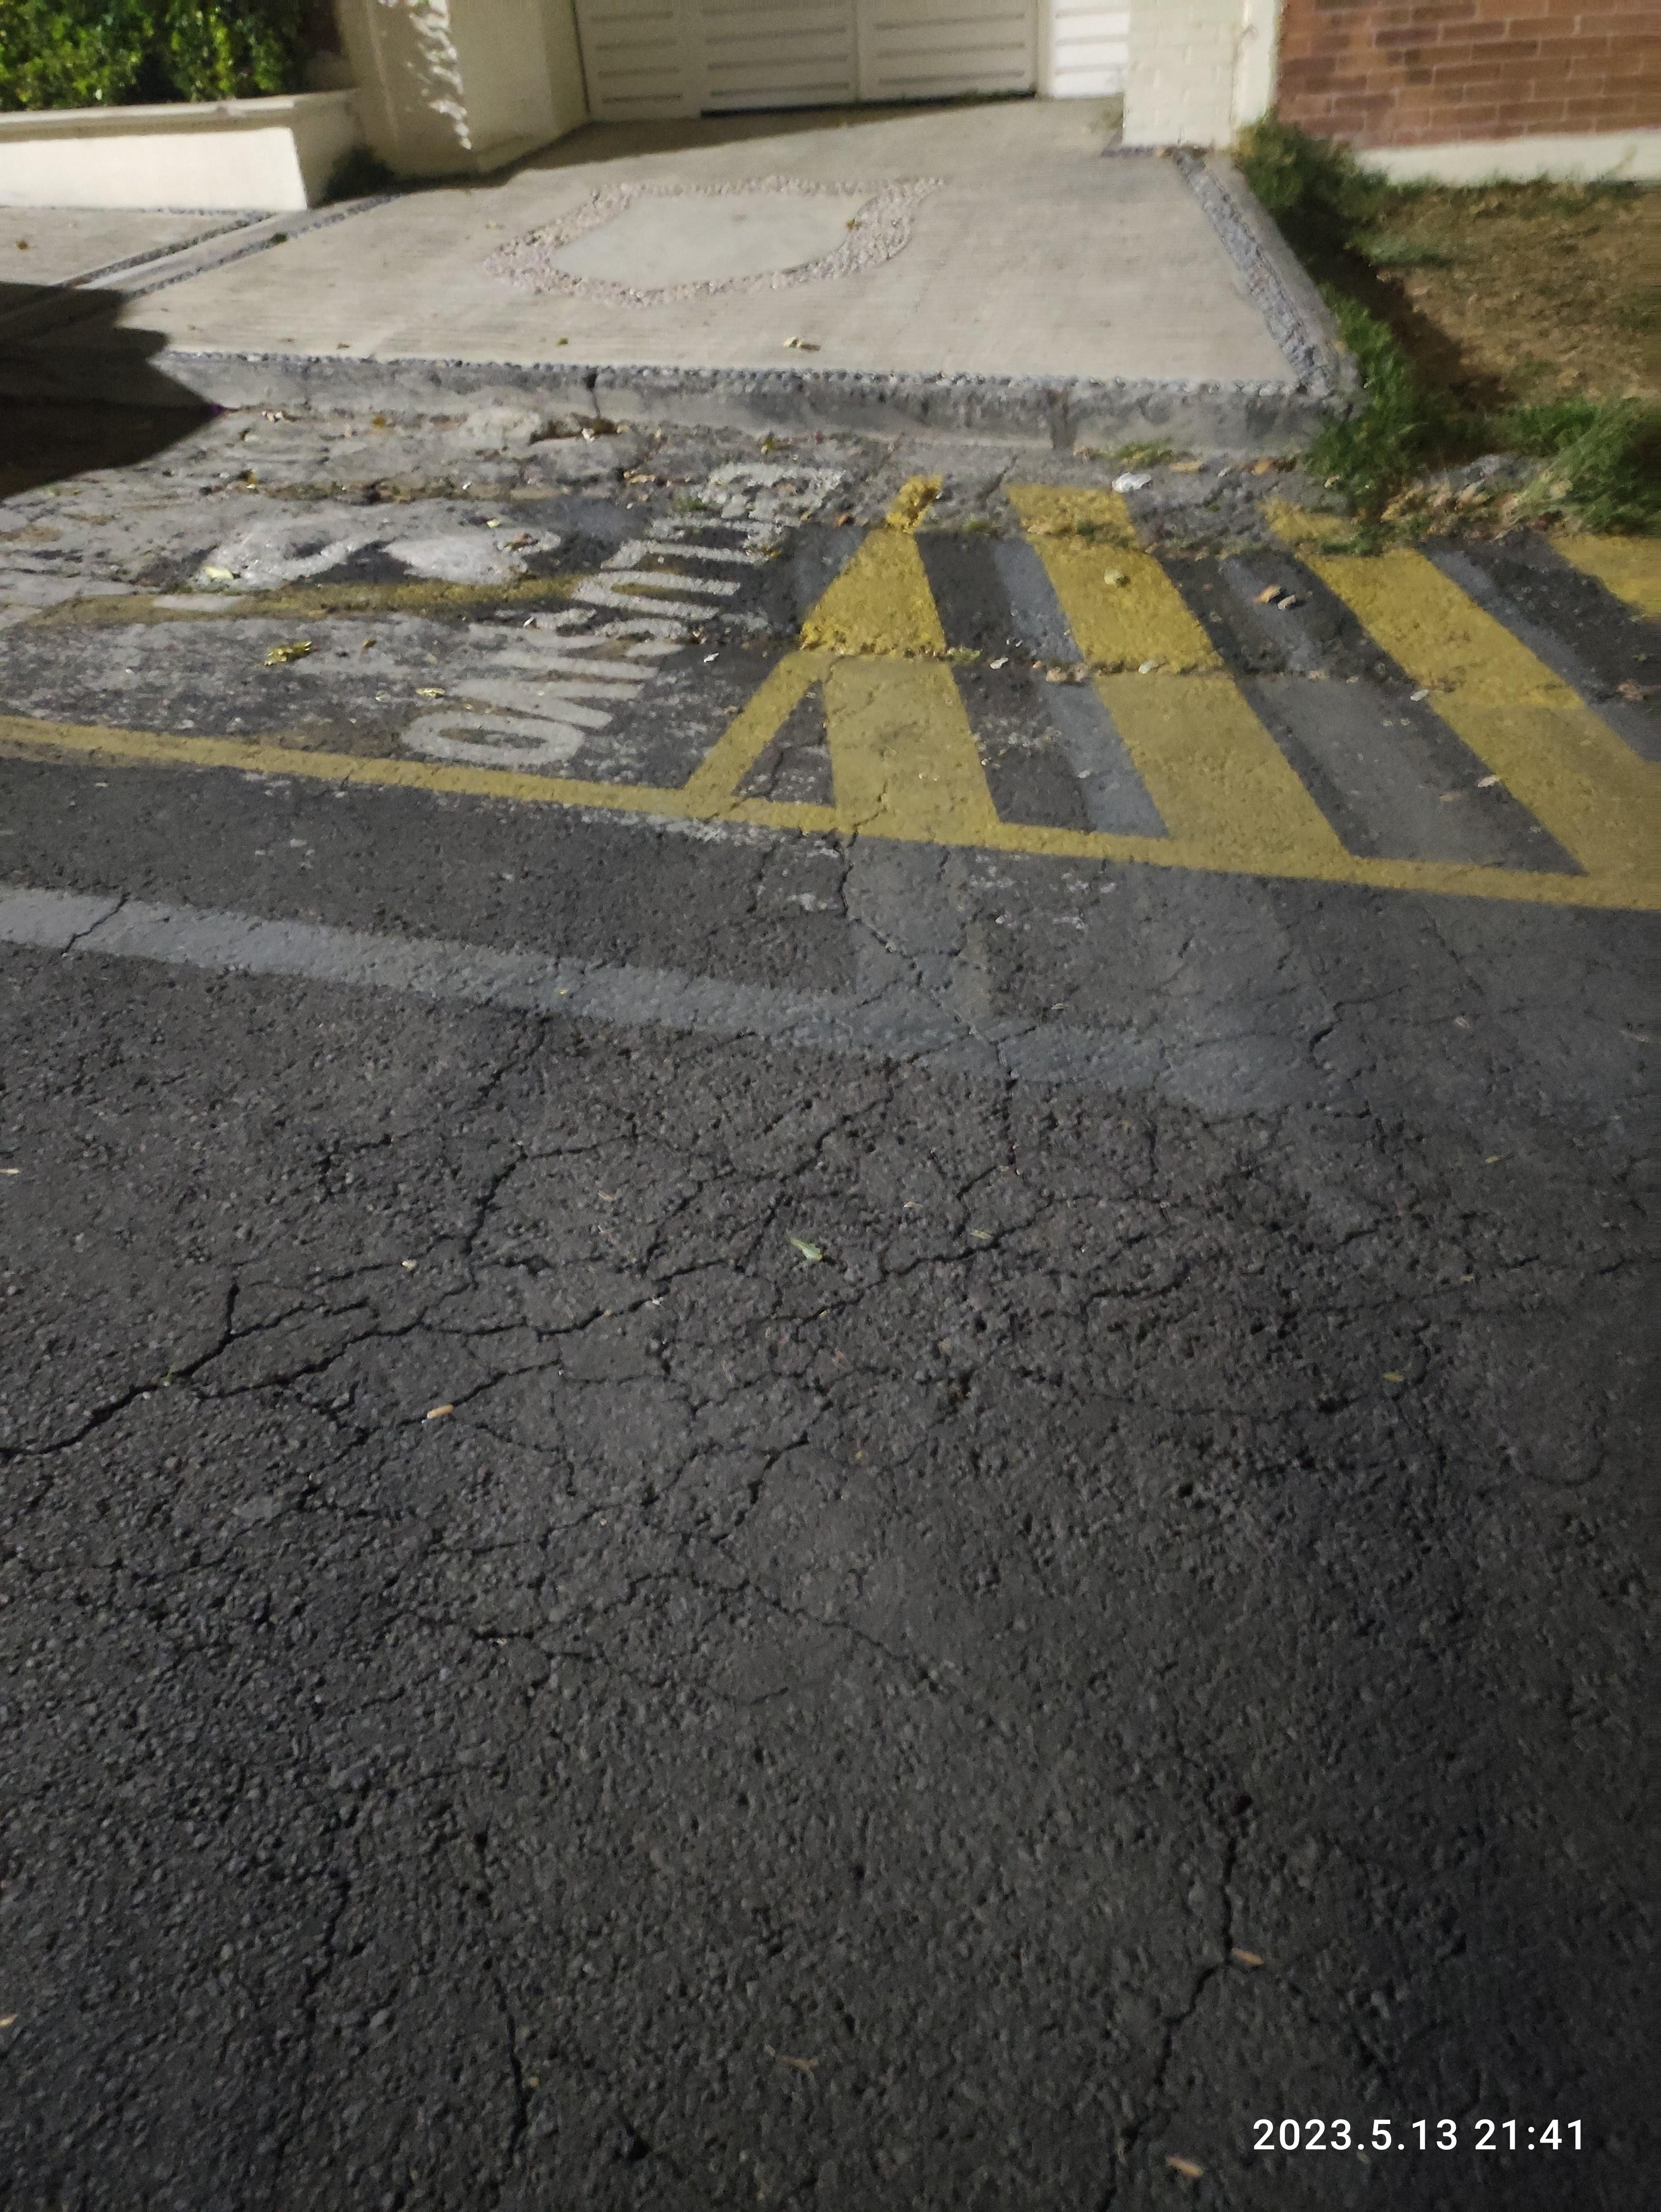alligator-crack: (7, 820, 1661, 1670)
